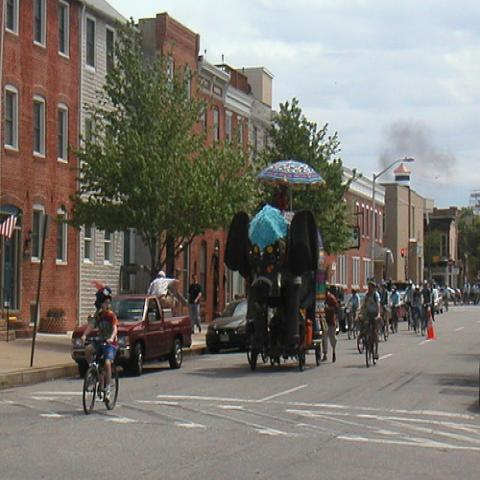car: (206, 299, 247, 354)
truck: (72, 295, 190, 381)
